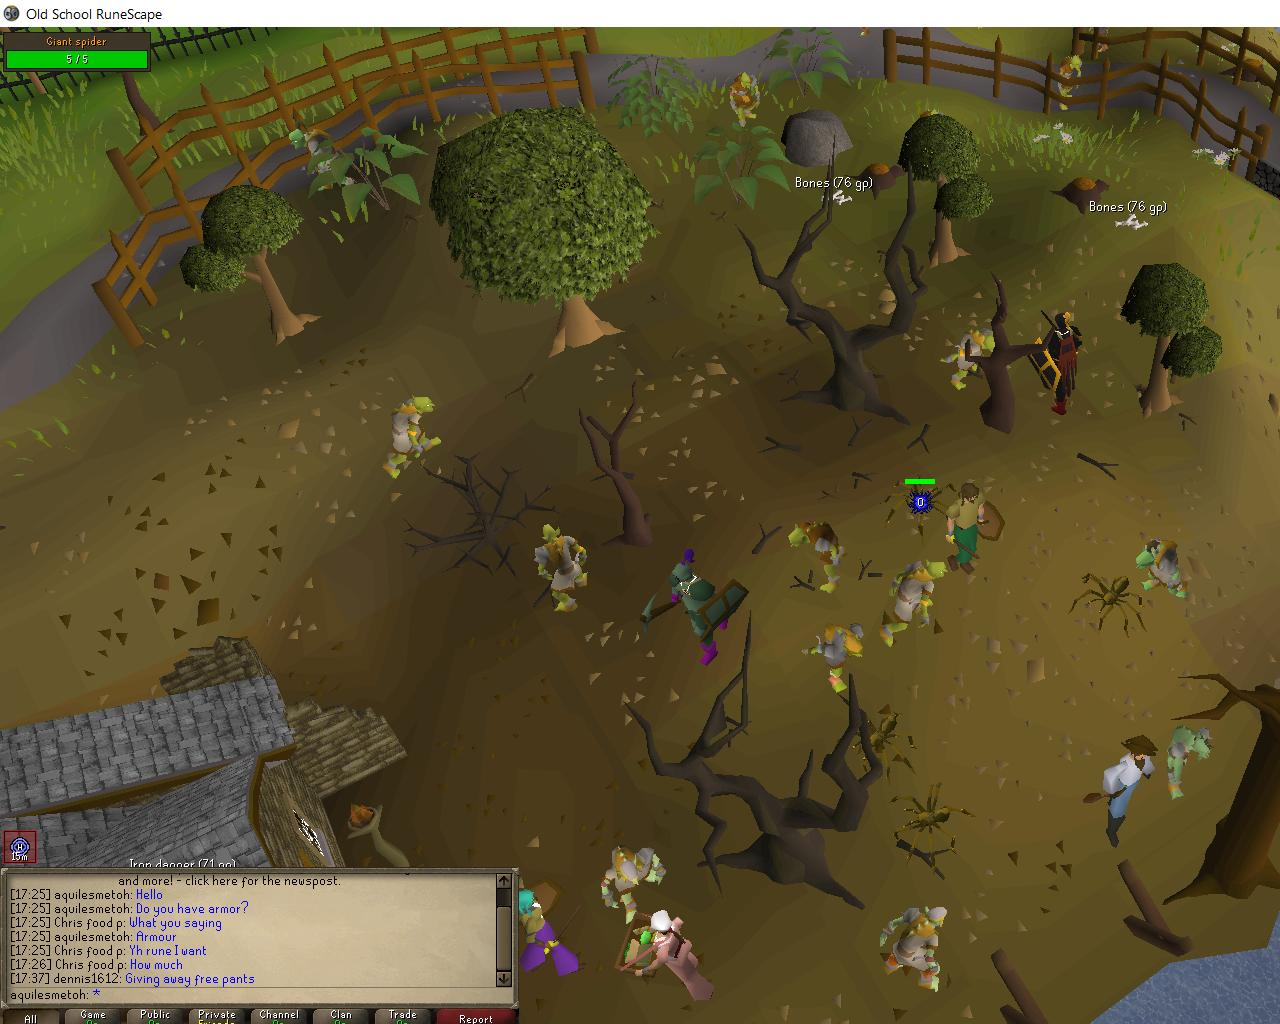Goblin: (868, 897, 963, 994), (379, 386, 448, 483), (596, 840, 669, 927), (530, 523, 596, 618), (1156, 722, 1226, 802), (787, 519, 850, 597), (1132, 534, 1197, 604), (940, 326, 1004, 393), (723, 69, 766, 127), (1046, 55, 1089, 114)
